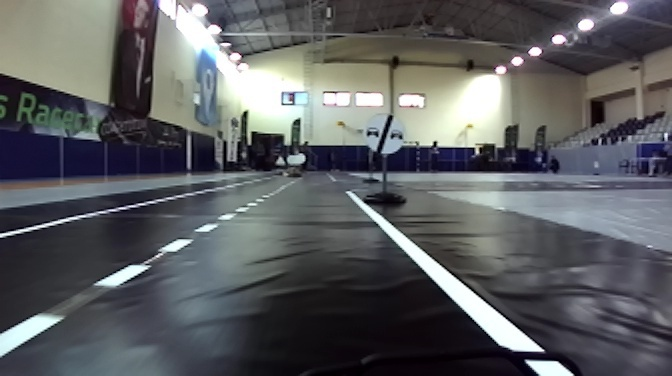sollama_serbest: (363, 112, 406, 157)
